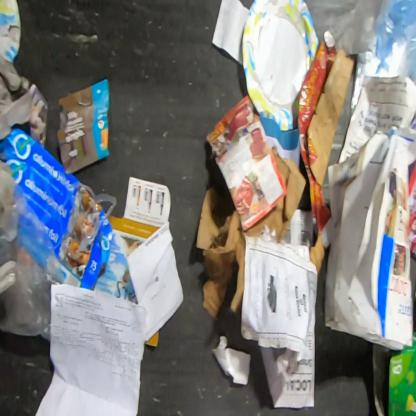cardboard: (195, 146, 307, 322), (0, 127, 116, 291), (298, 30, 356, 276), (240, 0, 321, 131), (371, 331, 415, 415), (91, 235, 143, 304), (0, 0, 22, 64)
soft_plastic: (0, 159, 65, 343), (349, 0, 416, 111), (303, 0, 383, 55), (78, 183, 118, 253)
